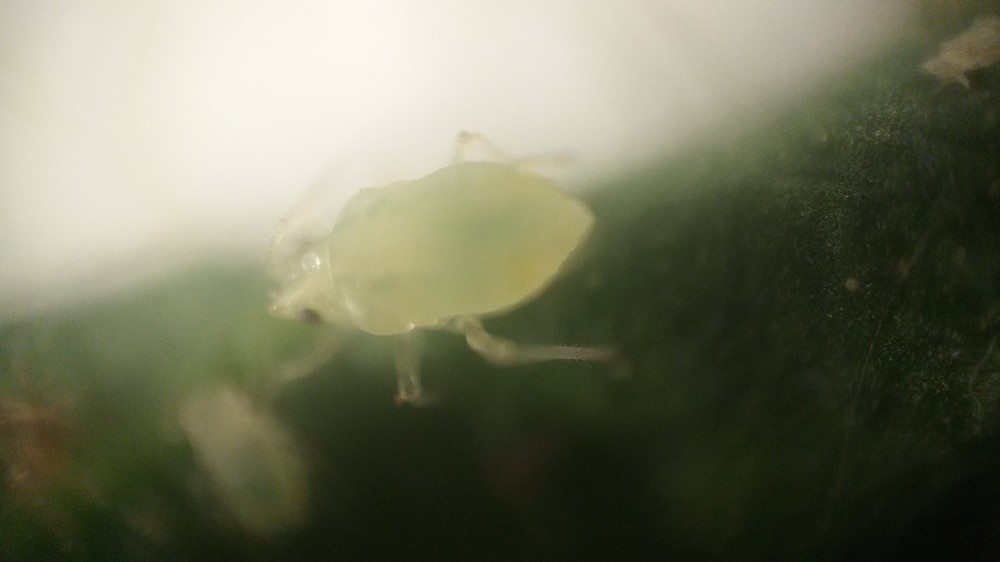Pulgon: (217, 118, 656, 427)
